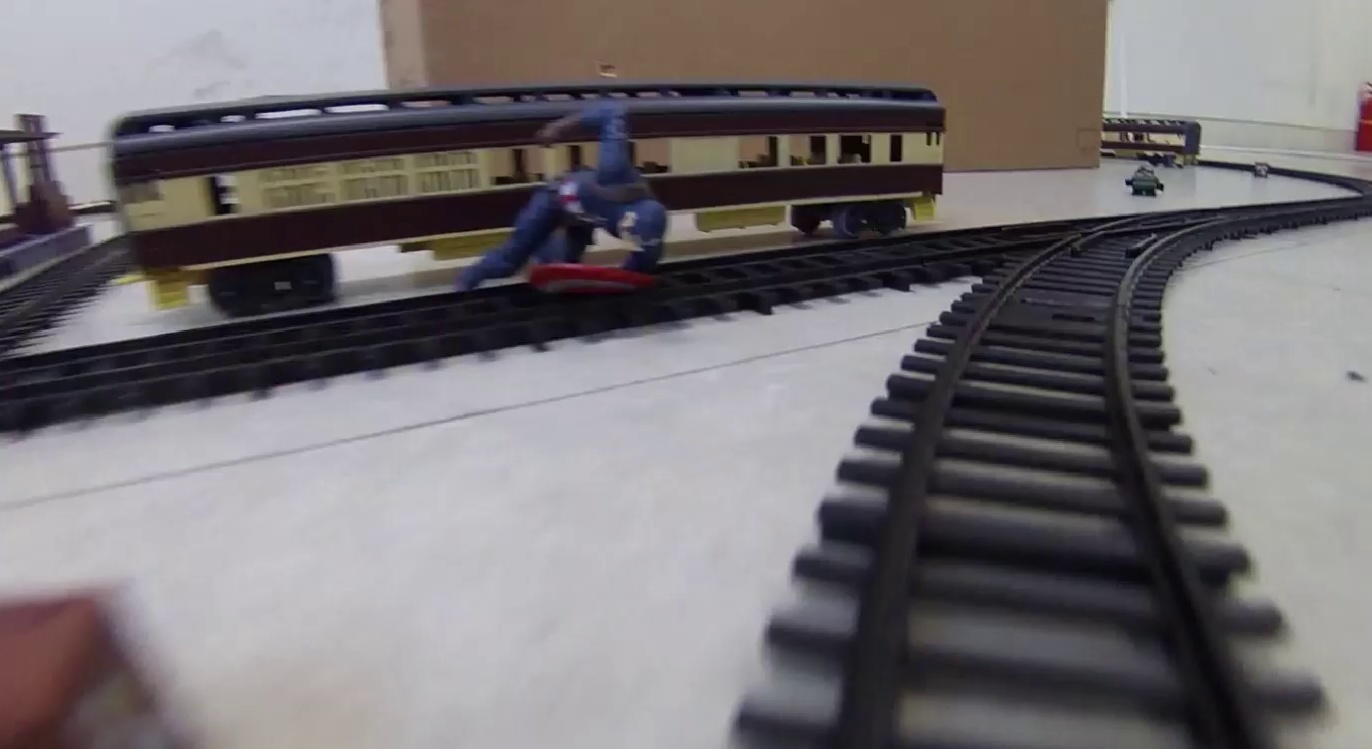people: (453, 106, 669, 292)
